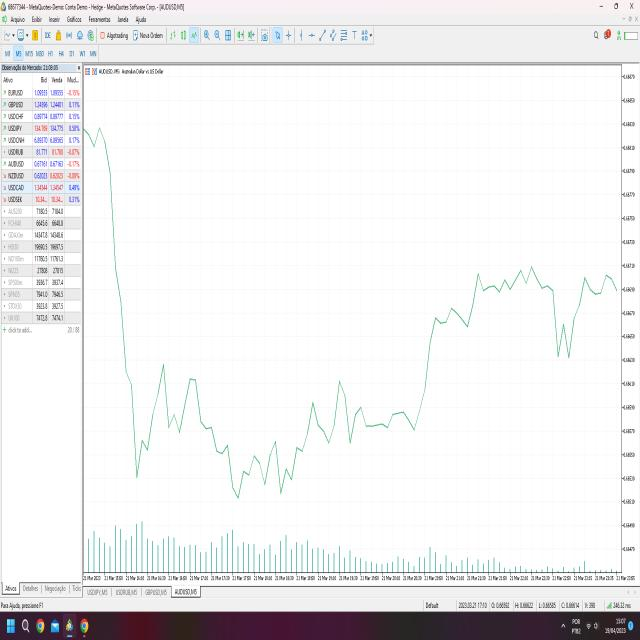fundo_duplo: (547, 294, 584, 368)
topo_duplo: (147, 334, 207, 486)
